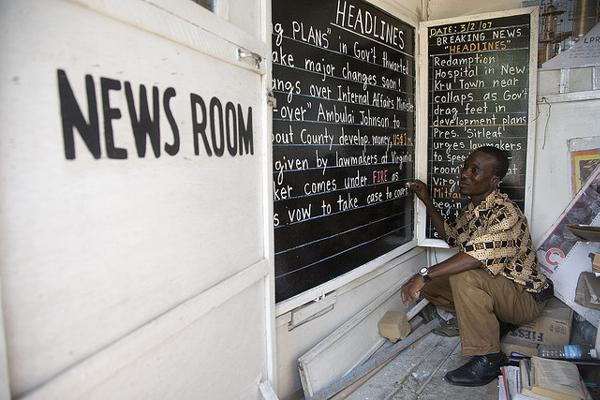person: (402, 146, 548, 387)
